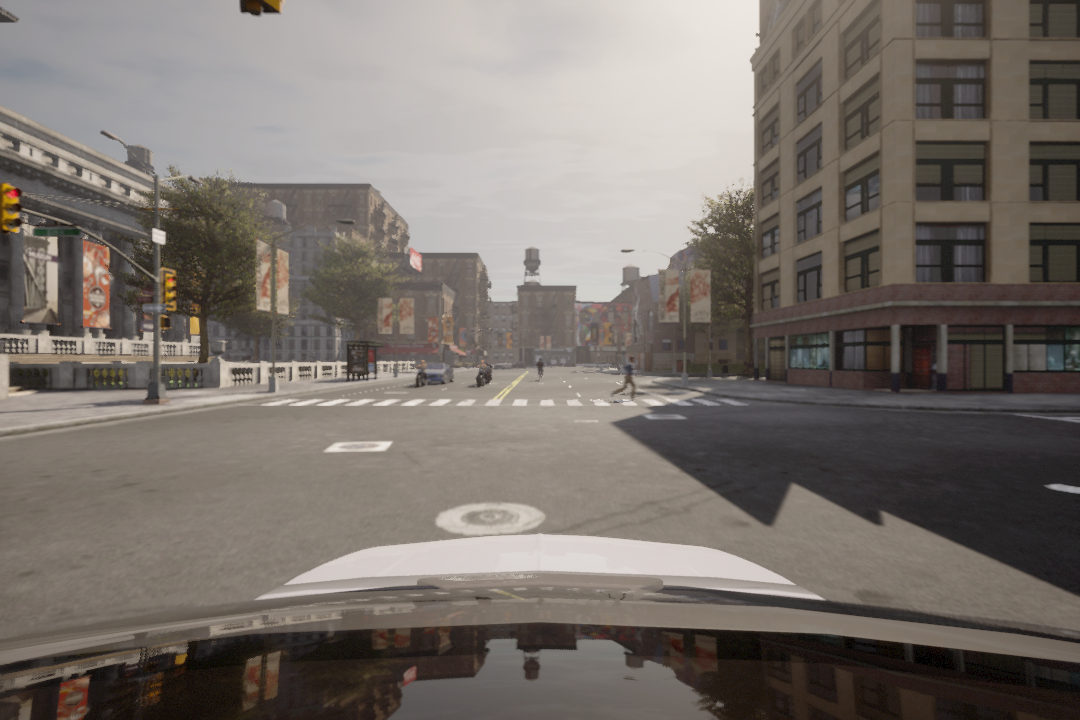walkside: (253, 396, 761, 414)
